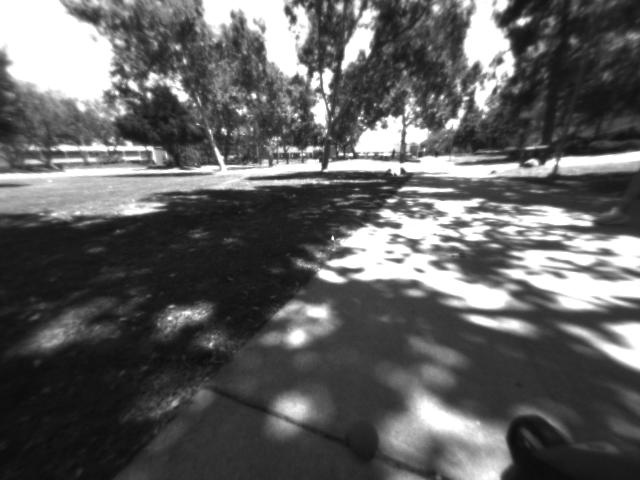dogtoy: (342, 416, 389, 469)
